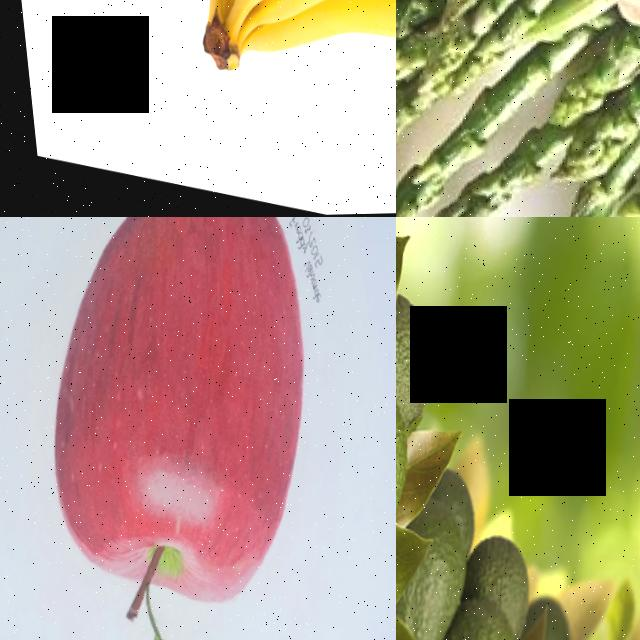apple: (0, 217, 367, 640)
asparagus: (396, 0, 638, 217)
avocado: (439, 518, 541, 637), (396, 501, 474, 640), (396, 367, 438, 617), (396, 292, 455, 444), (403, 586, 521, 640)
banana: (123, 0, 396, 182)
